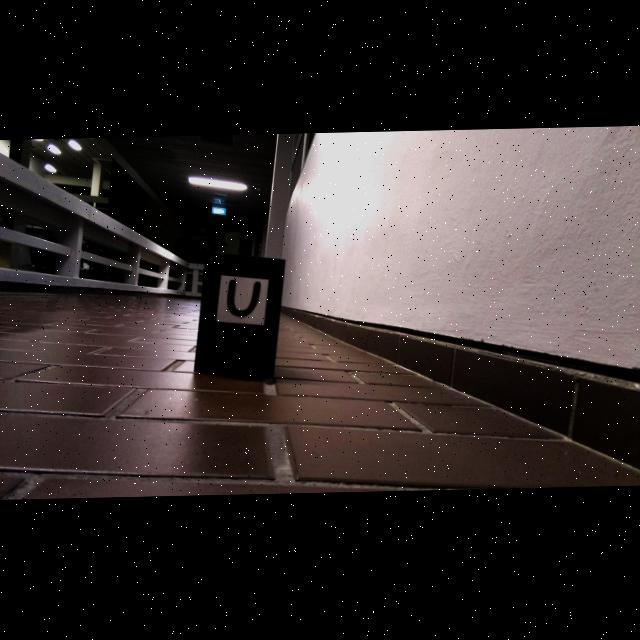U: (227, 281, 261, 319)
